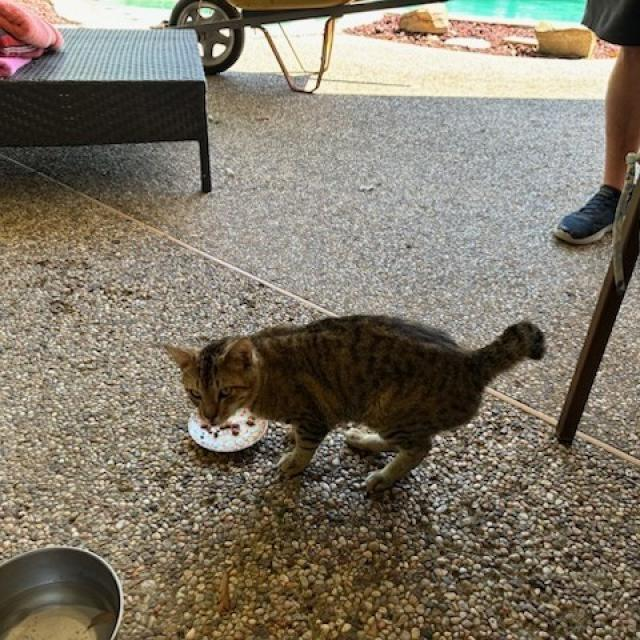manx_cat: (162, 322, 279, 432)
